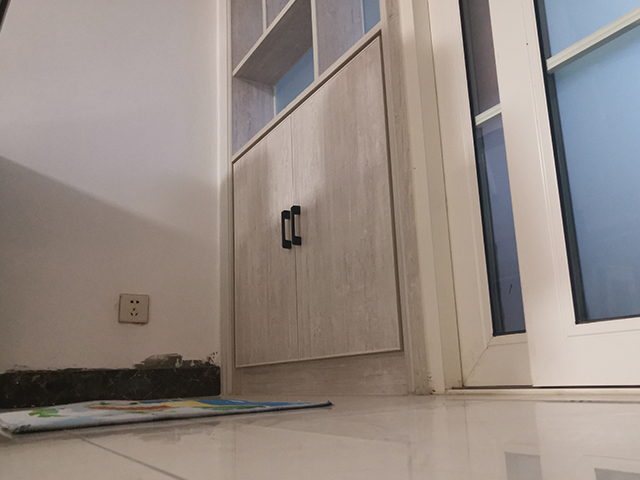cabinet: (214, 1, 434, 400)
carpet: (1, 392, 334, 438)
